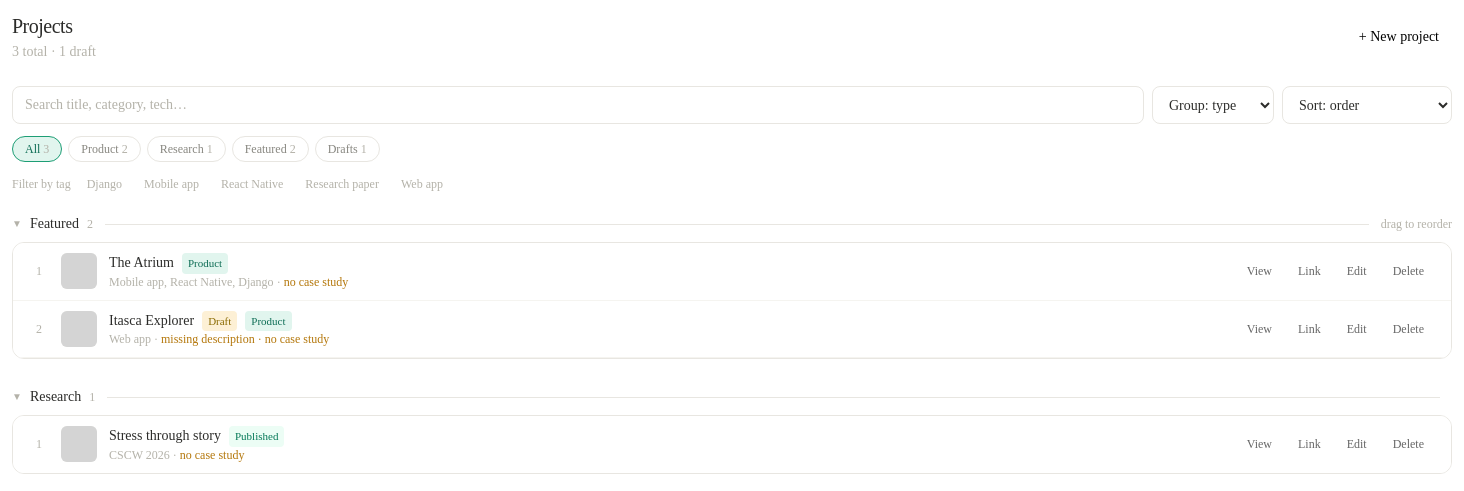
Test: ProjectsTab › narrows the list as you search
The image size is (1464, 491).
Check: the text "The Atrium" is shown, box 109,253 -> 174,273
Type "django" into the search field named "Search projects" at (578, 105), box 12,86 -> 1144,124
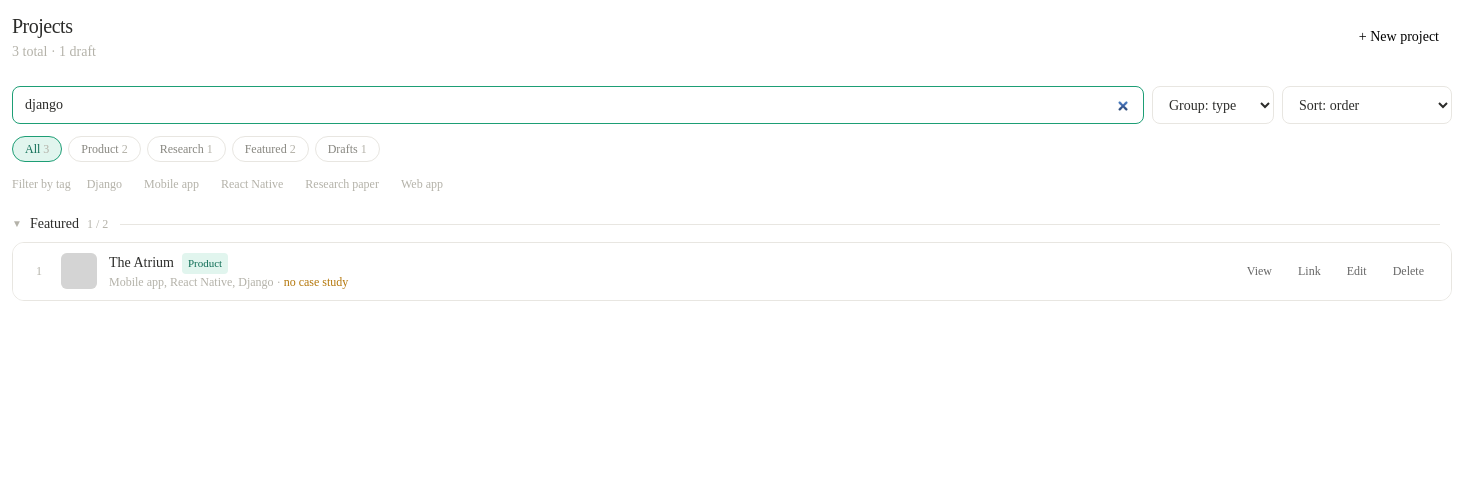
Check: the text "The Atrium" is shown, box 109,253 -> 174,273
Check: the text "Stress through story" is gone
